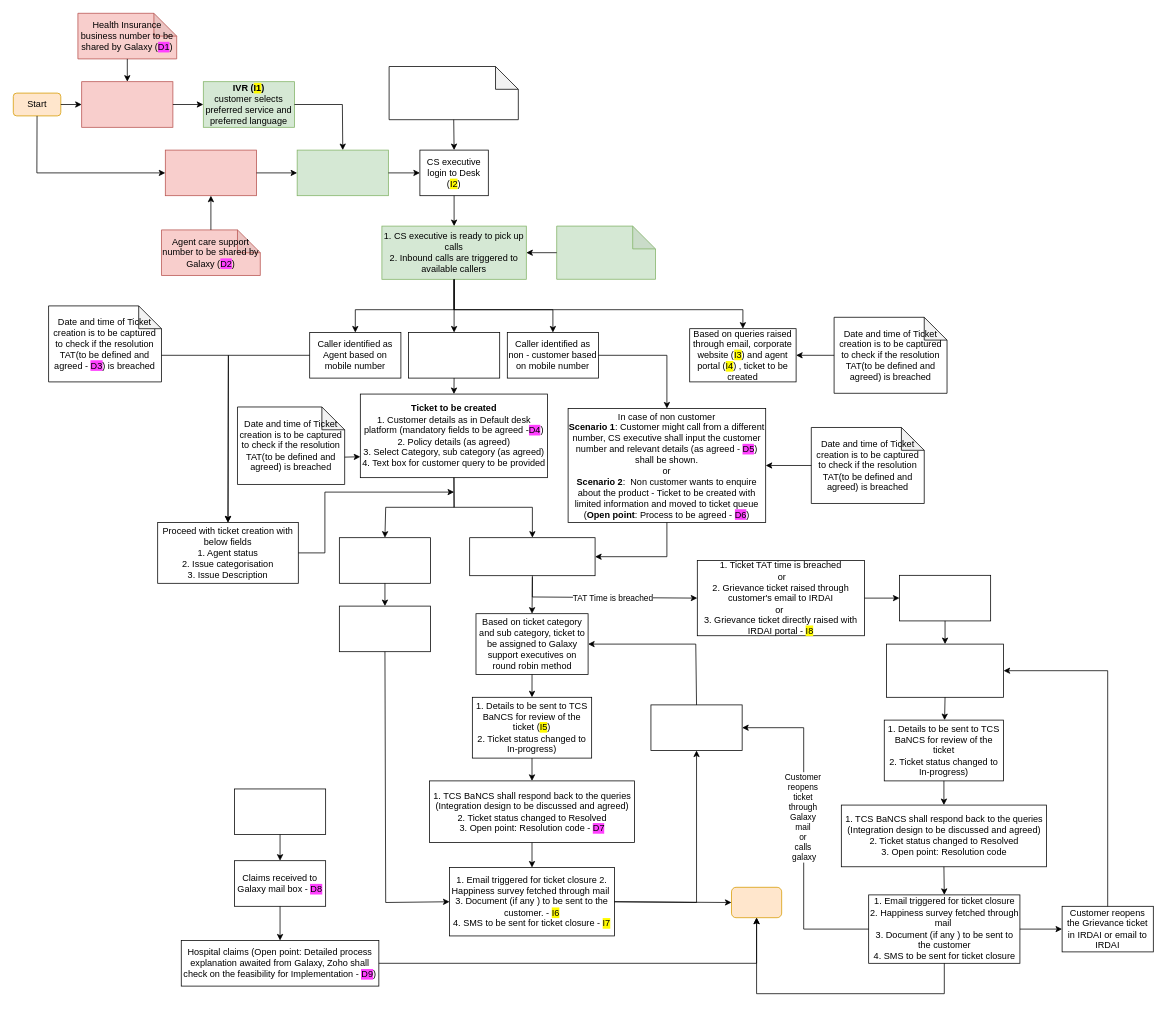
The diagram is 1167 pixels wide and 1013 high, and some of its shapes have lost their labels. Here are the shapes that lost their labels. From the top down, the box of each, then its label:
(81, 81, 173, 127): Customer dials Galaxy health Insurance Business number
(388, 66, 518, 120): SSO to be ensured for CS executive at the time of login
(165, 149, 256, 196): Agents call from Galaxy agent care support number
(296, 149, 388, 196): Inbound call to call centre
(556, 225, 656, 279): CS executive assignment is based on round robin method
(408, 332, 500, 378): Caller identified as customer based on mobile number
(339, 537, 431, 583): Ticket resolved instantly through information available with CS executive
(469, 537, 595, 576): Ticket not resolved instantly: Ticket status set as open
(899, 575, 991, 621): Grievance ticket is created in Desk with Status as 'Open'
(339, 605, 431, 652): Ticket status changed from open to resolved
(886, 643, 1004, 697): Grievance ticket assigned to Grievance manager based on round robin method
(650, 704, 742, 750): Customer reopens the ticket through mail or call
(234, 788, 326, 835): Network hospitals connecting to Galaxy for cashless claims
(731, 887, 782, 918): End
